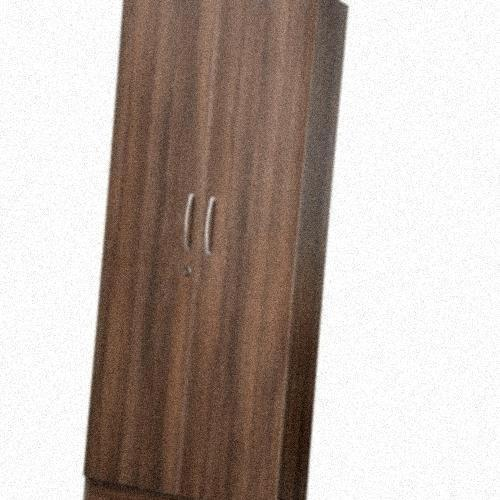Armario: (85, 1, 337, 495)
